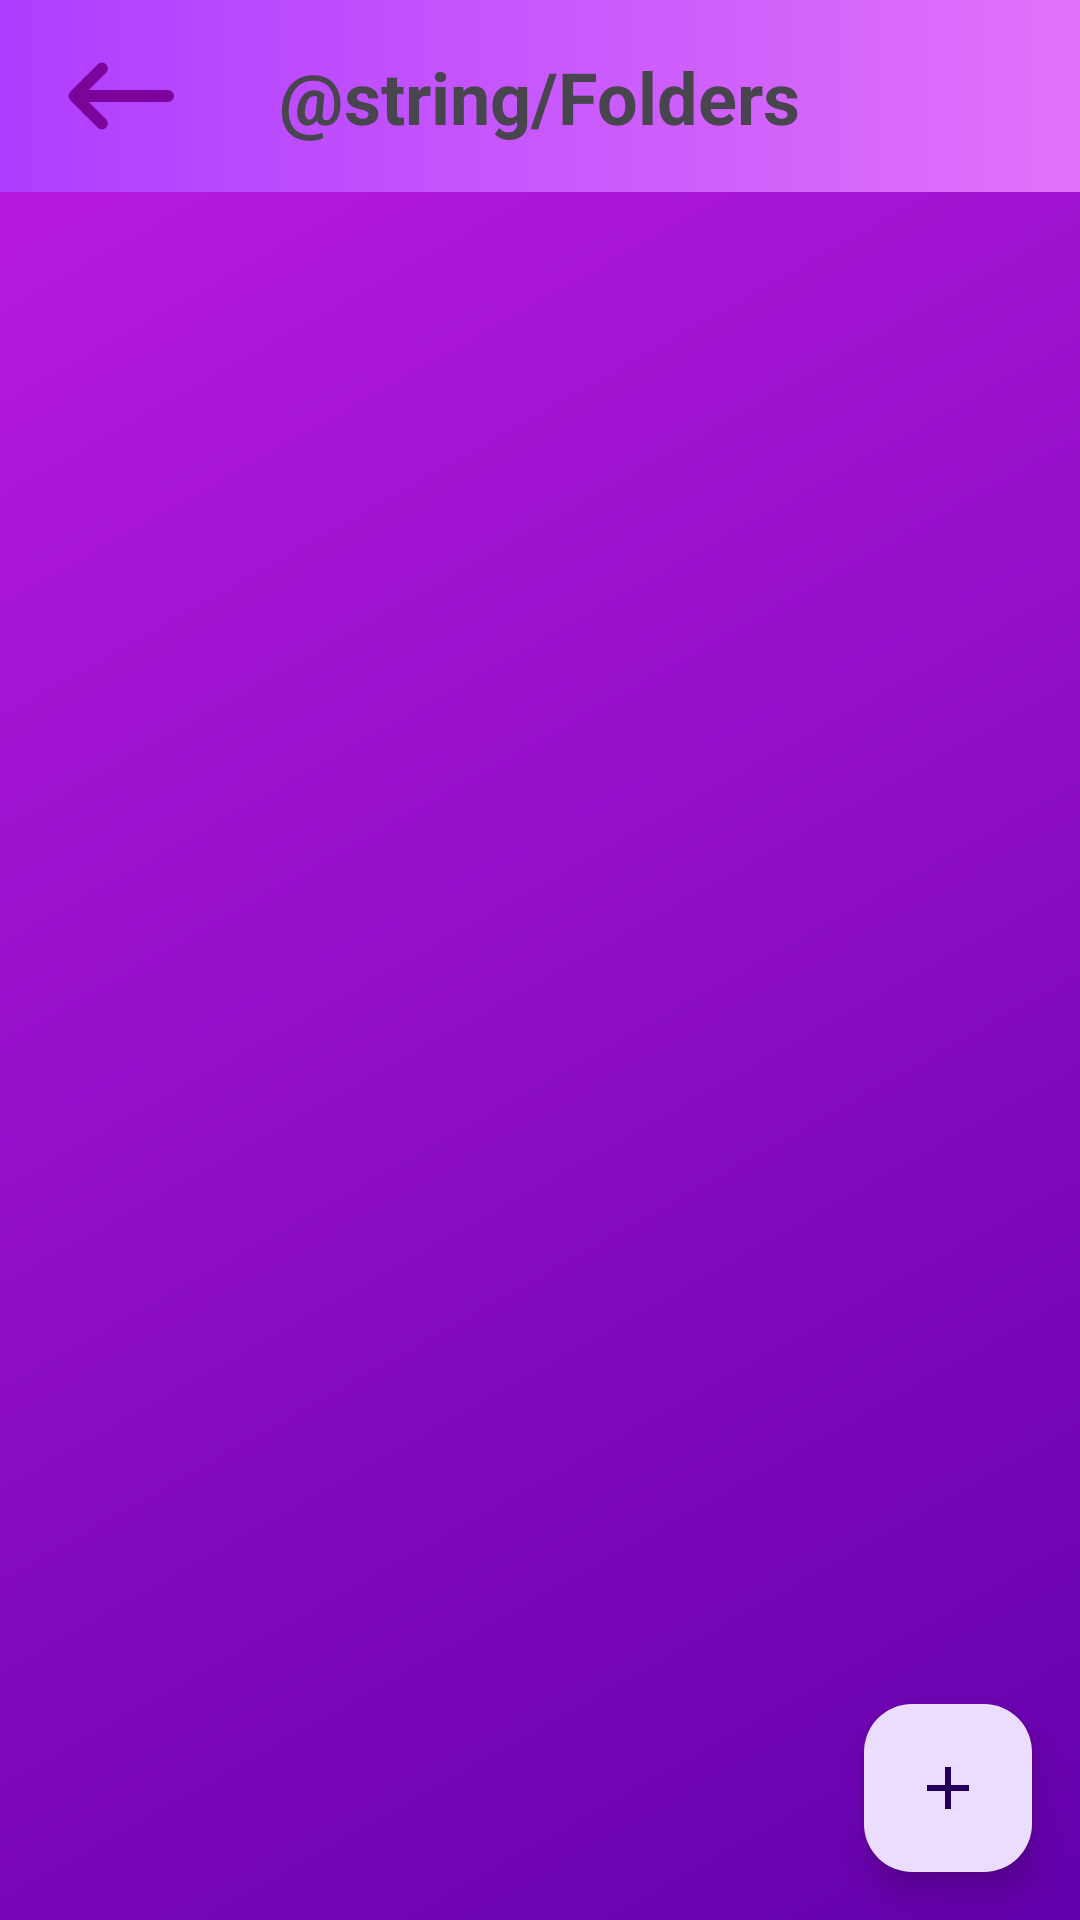

Icon click points for this 1080 × 1920 phone screenshot, format [x,y]:
add: [948,1788]
keyboard backspace: [121,96]
